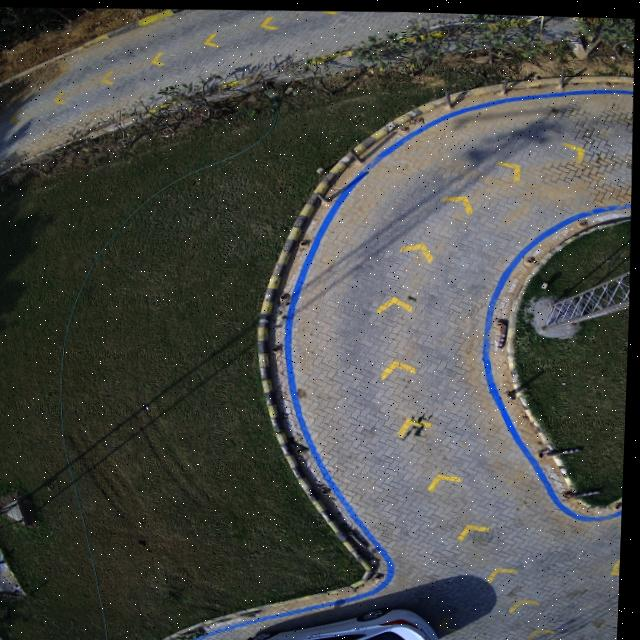car: (248, 604, 442, 640)
